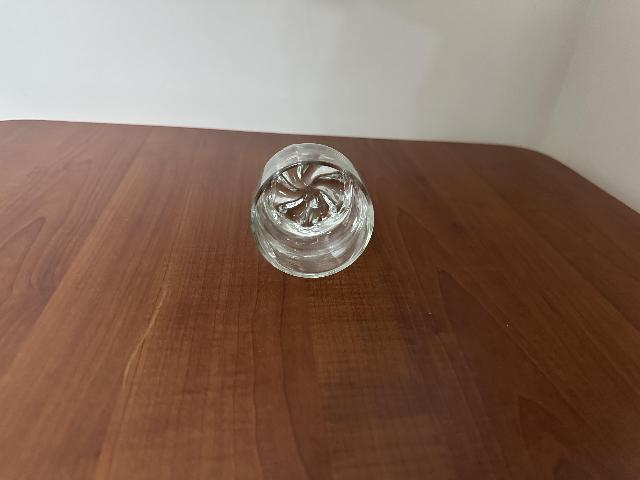Cam: (249, 141, 376, 281)
